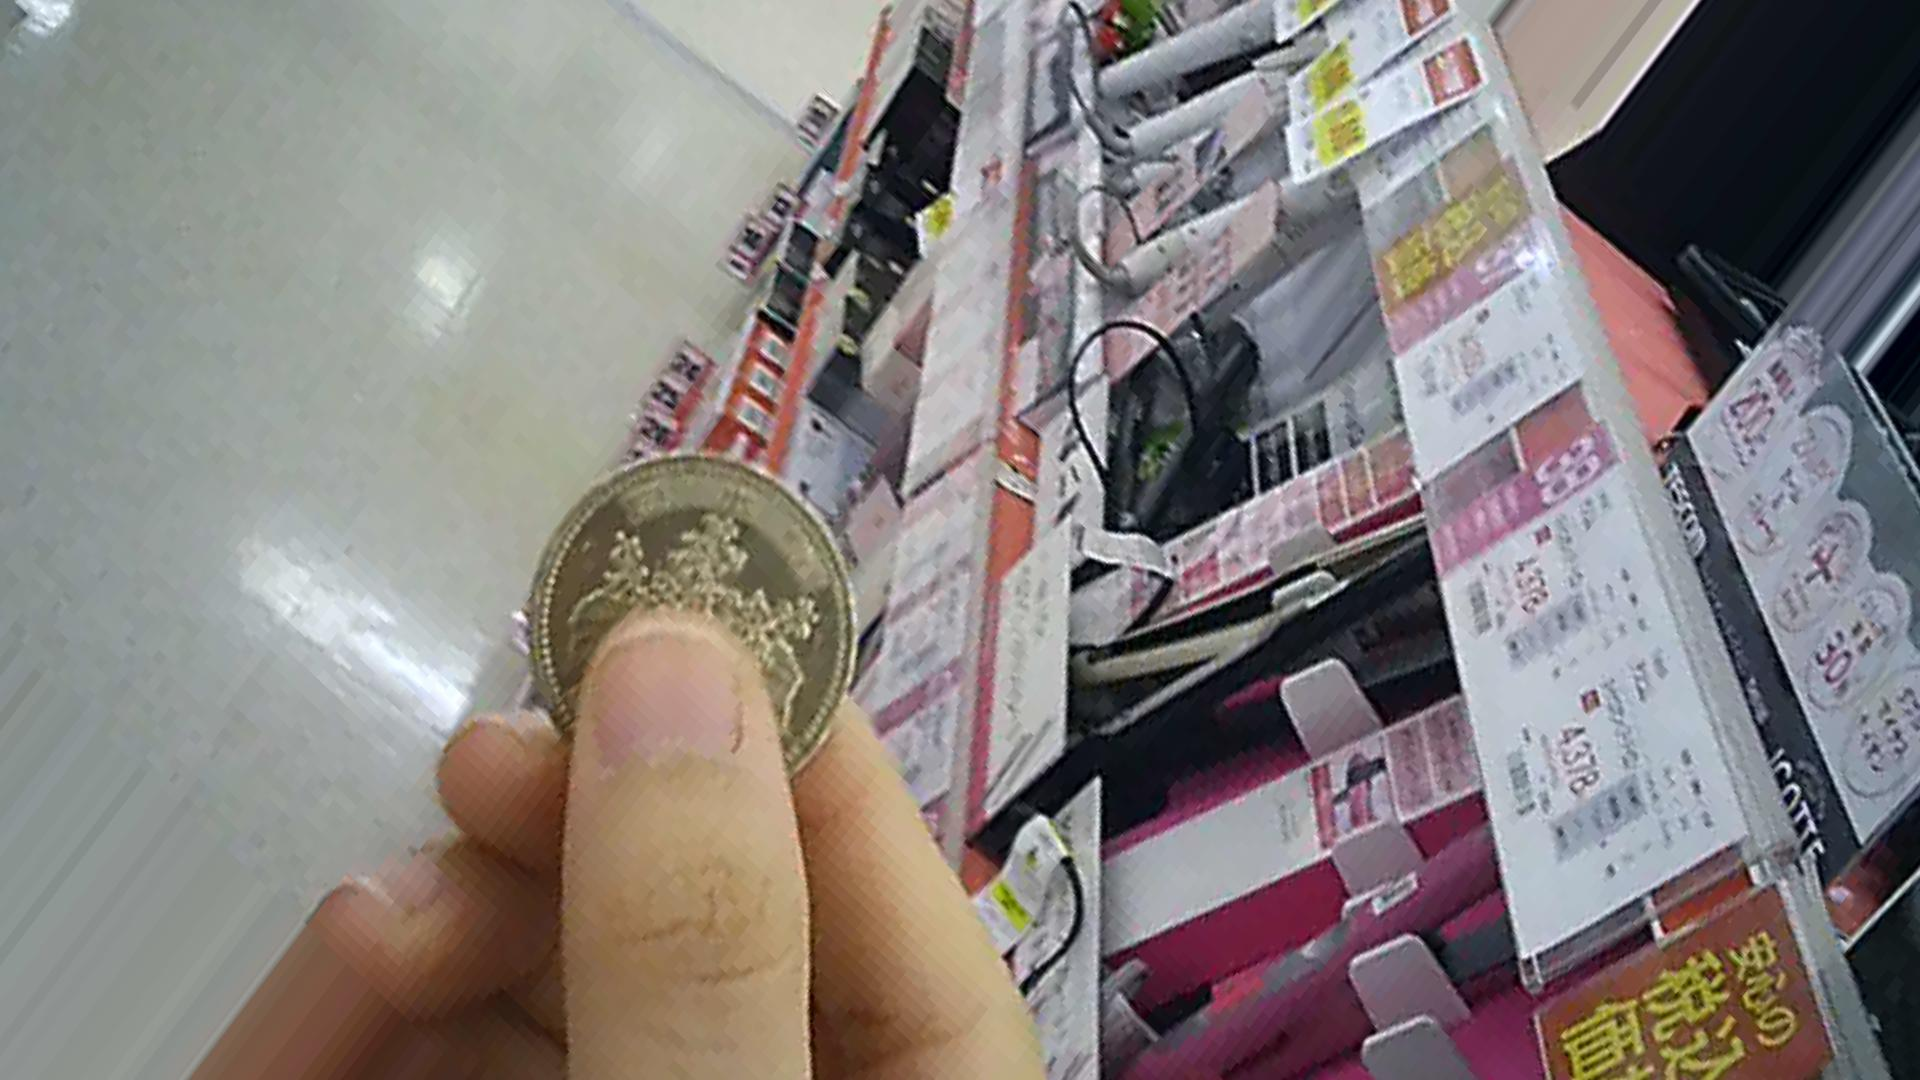500 Yen: (529, 442, 851, 794)
